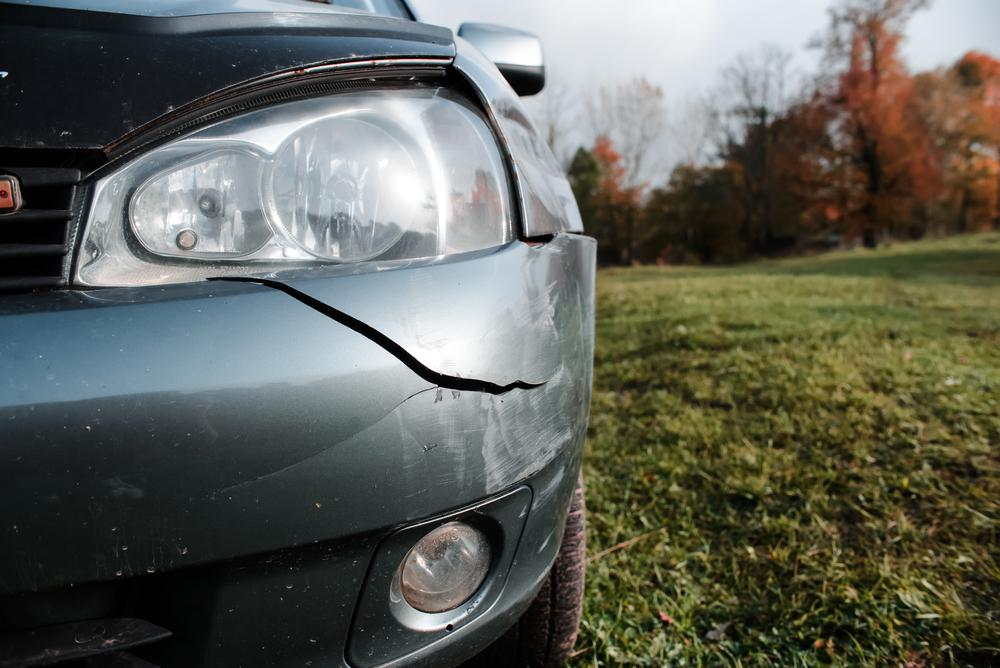crack: (205, 276, 550, 494)
scratch: (409, 379, 585, 498)
